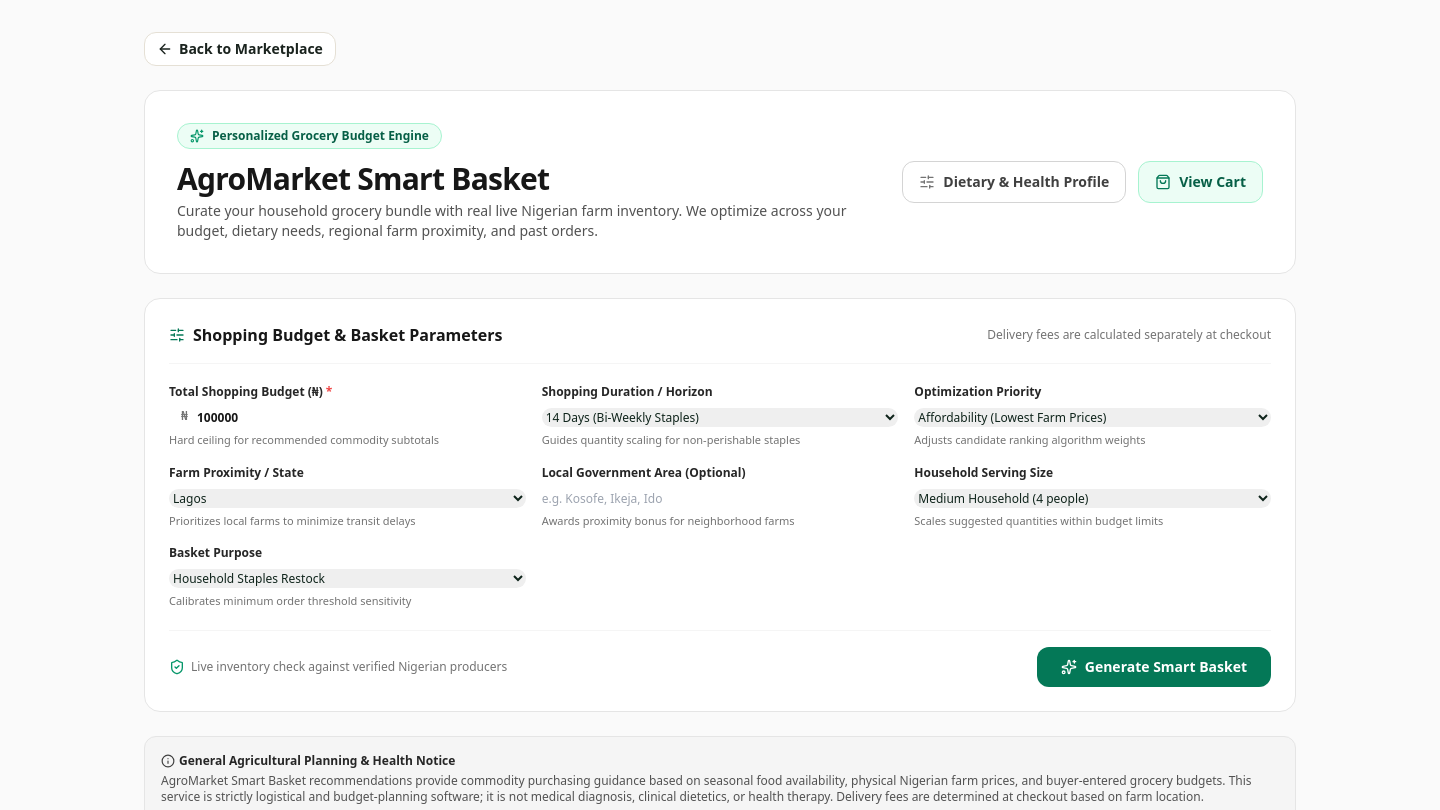
Test: SmartBasketView UI Component Suite › 2. Budget & Parameter Controls › renders voluntary health, allergy, and dietary profile drawer
This screenshot has width=1440, height=810.
Click the button "Dietary & Health Profile": (1014, 182) [902,161,1126,203]
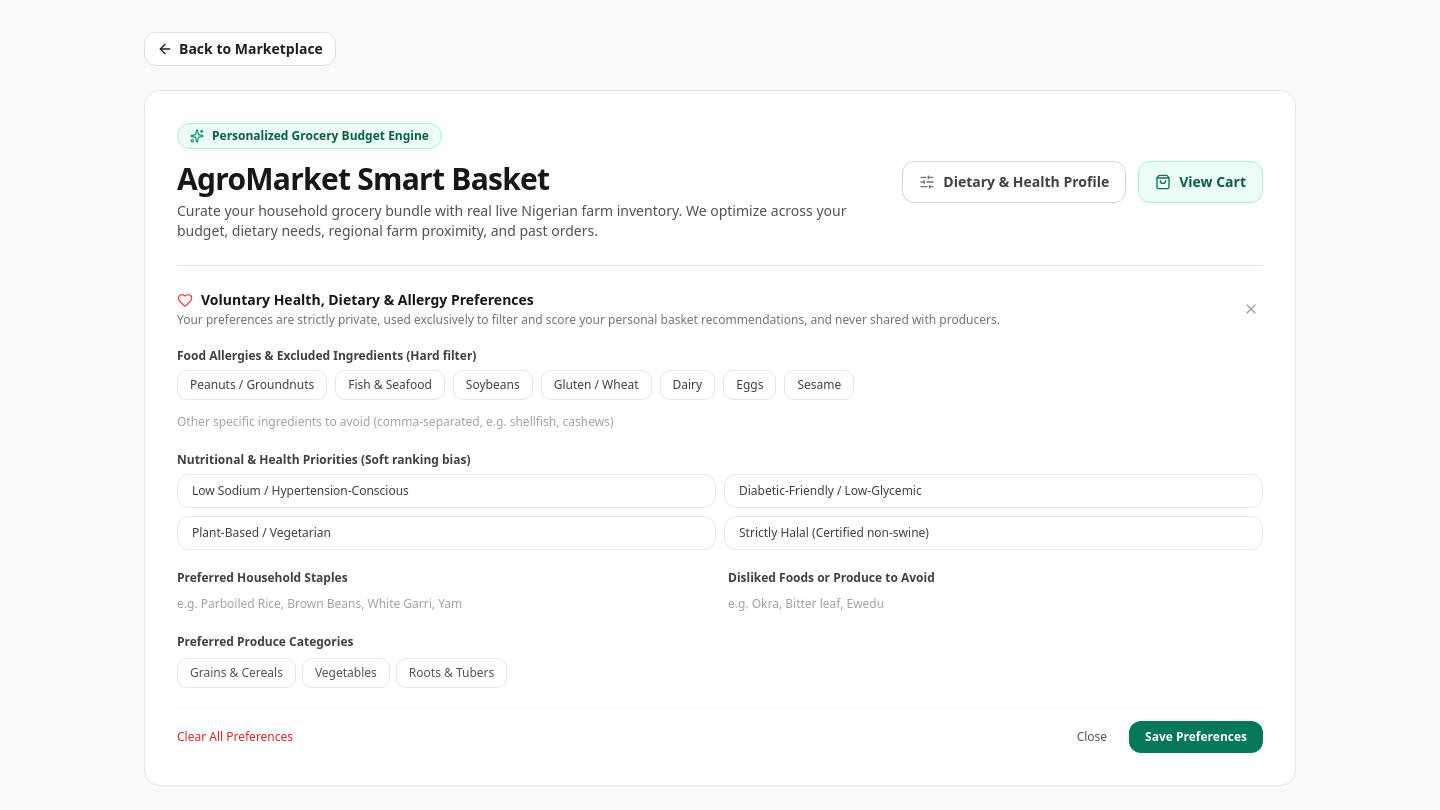
Expected: the text "Food Allergies & Excluded Ingredients (Hard filter)" is shown, [177,347,476,364]
Expected: the text "Nutritional & Health Priorities (Soft ranking bias)" is shown, [177,451,471,468]
Expected: the text "Your preferences are strictly private" is shown, [177,311,1000,328]
